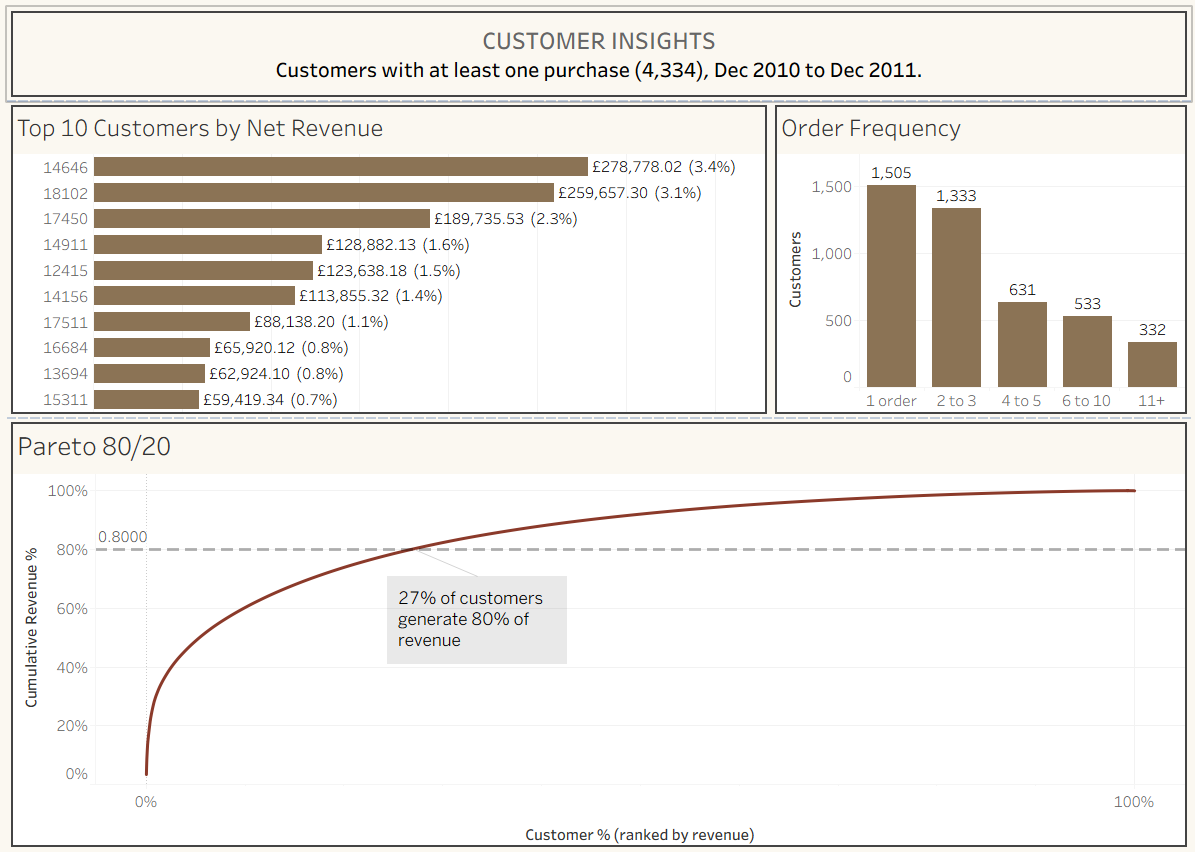

This screenshot's page, from the dashboard's own definition file:
{"tool":"tableau","page":{"name":"Customer Insights","canvas":[1200,800],"ordinal":0},"visuals":[{"type":"worksheet","title":"Top Customer by Revenue","mark":"Automatic","rows":["CustomerID"],"cols":["Revenue"],"box":[8,8,346,784]},{"type":"worksheet","title":"Customer Order Frequency","mark":"Bar","rows":["CustomerID"],"cols":["Calculation_2013783098306560"],"box":[354,8,354,784]},{"type":"worksheet","title":"Pareto Customer (80/20)","mark":"Bar","rows":["CustomerID"],"cols":["Revenue"],"box":[708,8,354,784]},{"type":"filter","title":"Customer Order Frequency","param":"[federated.08bz8h319zoiio131hh471t4ru6s].[none:CustomerID:ok]","box":[1062,8,130,64]},{"type":"filter","title":"Pareto Customer (80/20)","param":"[federated.08bz8h319zoiio131hh471t4ru6s].[none:Calculation_2013783111176198:nk]","box":[1062,72,130,115]},{"type":"filter","title":"Top Customer by Revenue","param":"[federated.08bz8h319zoiio131hh471t4ru6s].[none:Country:nk]","box":[1062,187,130,514]},{"type":"legend","title":"Pareto Customer (80/20)","param":"[federated.08bz8h319zoiio131hh471t4ru6s].[:Measure Names]","box":[1062,701,130,91]}]}

Visuals, with their boxes on the page's 1200x800 design canvas (x1, y1, x2, y2). These are canvas units, not pixel positions in the 1195x852 screenshot, which may show the page scaled, cropped or inside an application window:
"Top Customer by Revenue" worksheet: rect(8, 8, 354, 792)
"Customer Order Frequency" worksheet (Bar marks): rect(354, 8, 708, 792)
"Pareto Customer (80/20)" worksheet (Bar marks): rect(708, 8, 1062, 792)
"Customer Order Frequency" filter: rect(1062, 8, 1192, 72)
"Pareto Customer (80/20)" filter: rect(1062, 72, 1192, 187)
"Top Customer by Revenue" filter: rect(1062, 187, 1192, 701)
"Pareto Customer (80/20)" legend: rect(1062, 701, 1192, 792)
